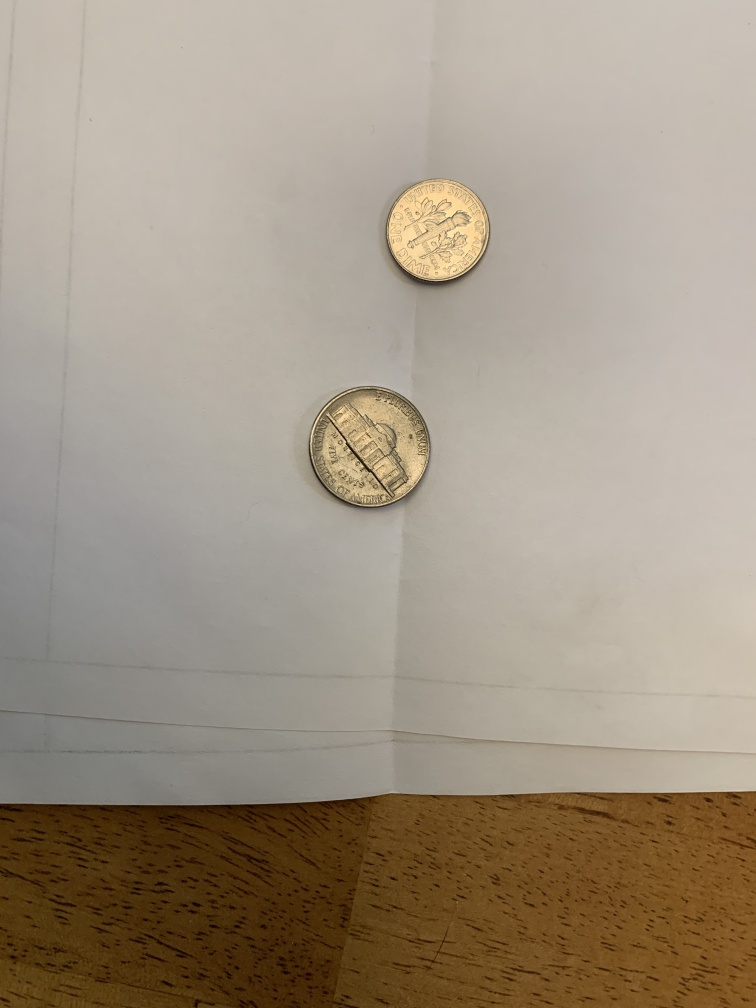dime: (377, 175, 496, 291)
nickel: (304, 381, 435, 512)
